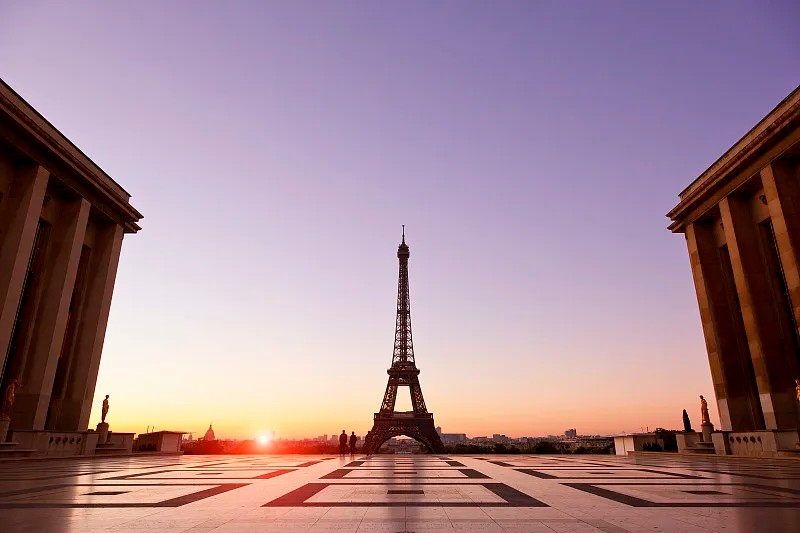Eiffel: (358, 225, 444, 453)
